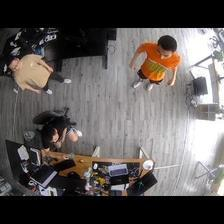normal: (128, 34, 181, 90), (6, 54, 73, 98), (34, 116, 83, 153)
